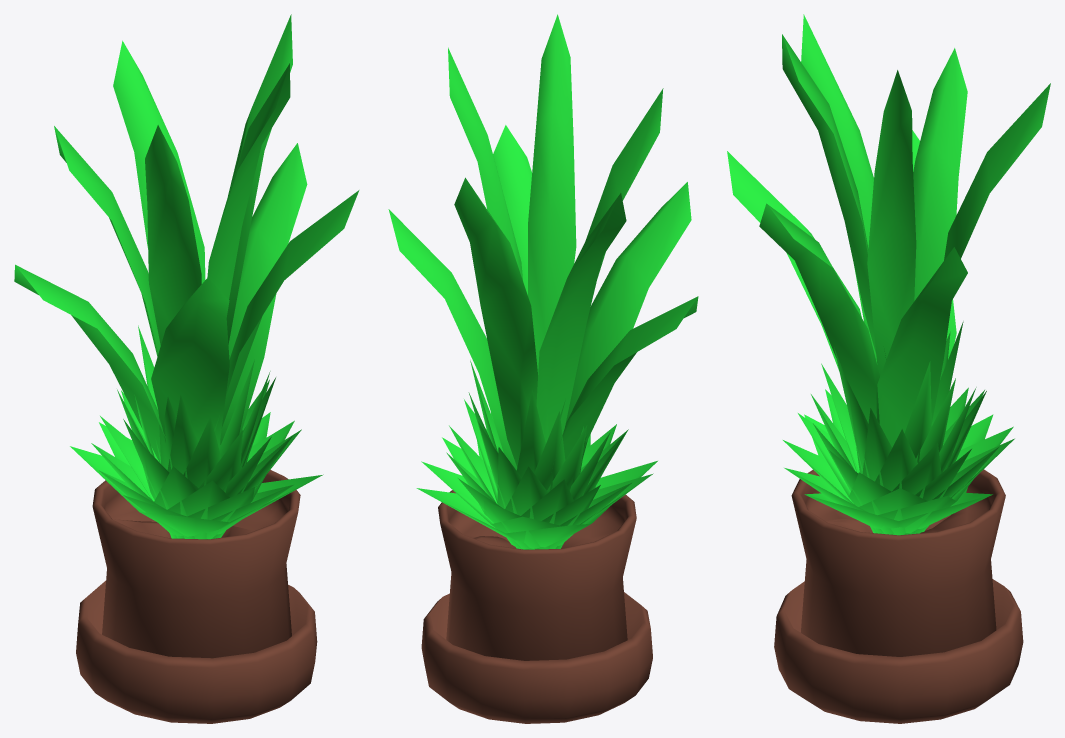
File: tree.glb
3 views of the same model, side by side, from view 1: azimuth 30°, elevation 25°; view 2: azimuth 150°, elevation 25°; view 3: azimuth 270°, elevation 25° (orthographic). The views are drawn at different scales.
Visible parts, largest first — view 1: Low-Poly Plant_.001, Low-Poly Plant_; view 2: Low-Poly Plant_.001, Low-Poly Plant_; view 3: Low-Poly Plant_.001, Low-Poly Plant_.
Boxes of the visible parts, box(x1,y1,x2,y2) form: Low-Poly Plant_.001: box(14, 14, 359, 539); Low-Poly Plant_: box(76, 470, 317, 723); Low-Poly Plant_.001: box(388, 14, 698, 549); Low-Poly Plant_: box(421, 490, 652, 723); Low-Poly Plant_.001: box(727, 14, 1050, 535); Low-Poly Plant_: box(774, 469, 1023, 723).
Size of the model in its own units: 1.2 by 2.49 by 1.09.
